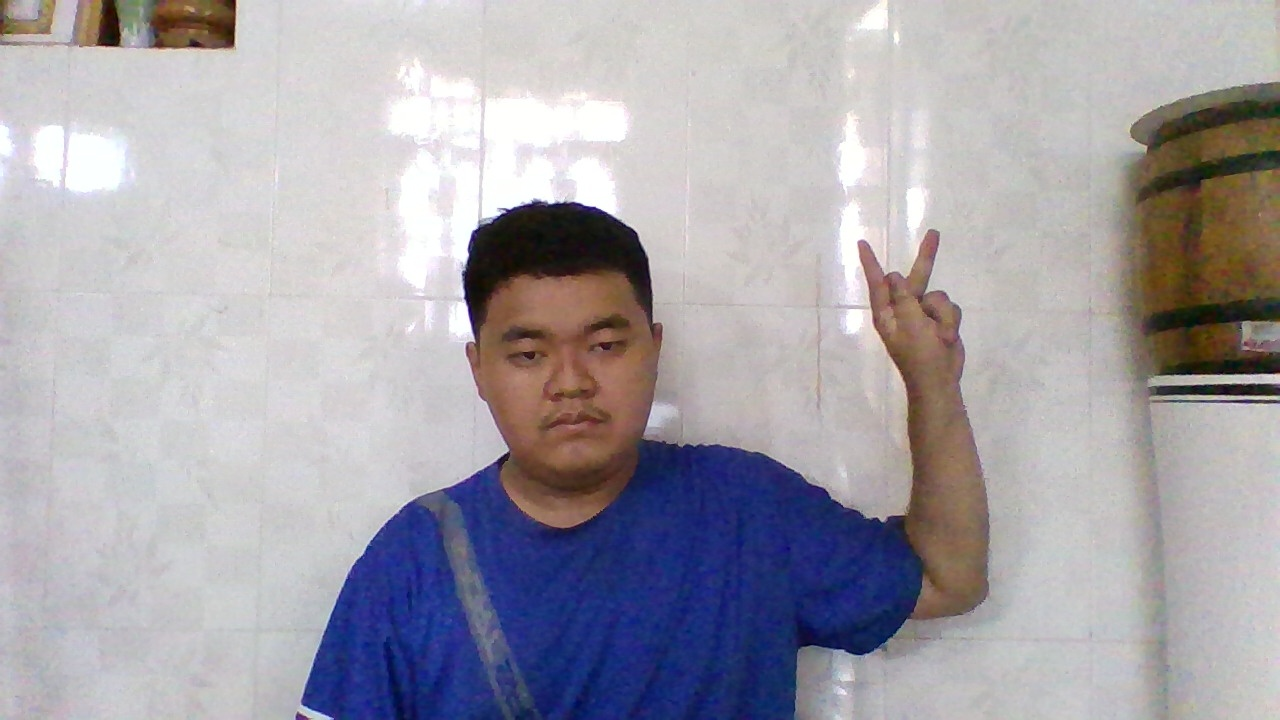K: (845, 219, 969, 397)
